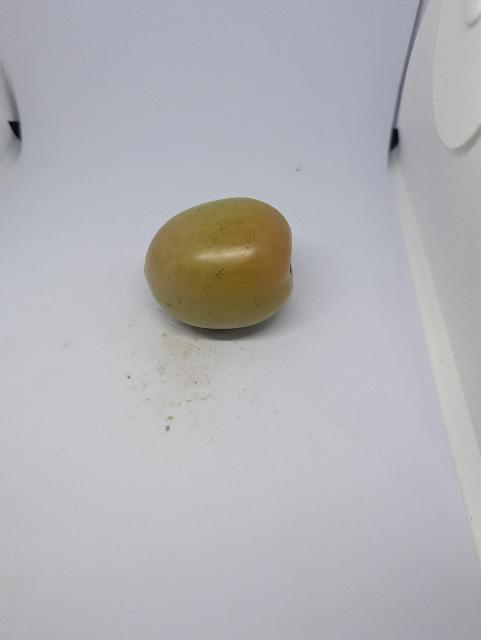breaker: (138, 195, 305, 338)
